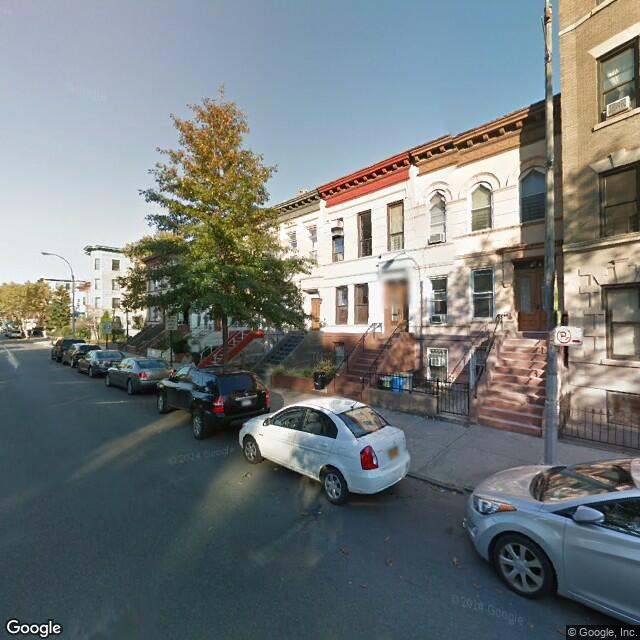litter: (238, 469, 252, 482), (451, 553, 463, 567), (438, 488, 458, 495), (384, 557, 394, 570), (338, 545, 351, 554), (381, 533, 392, 543), (360, 581, 372, 588)
